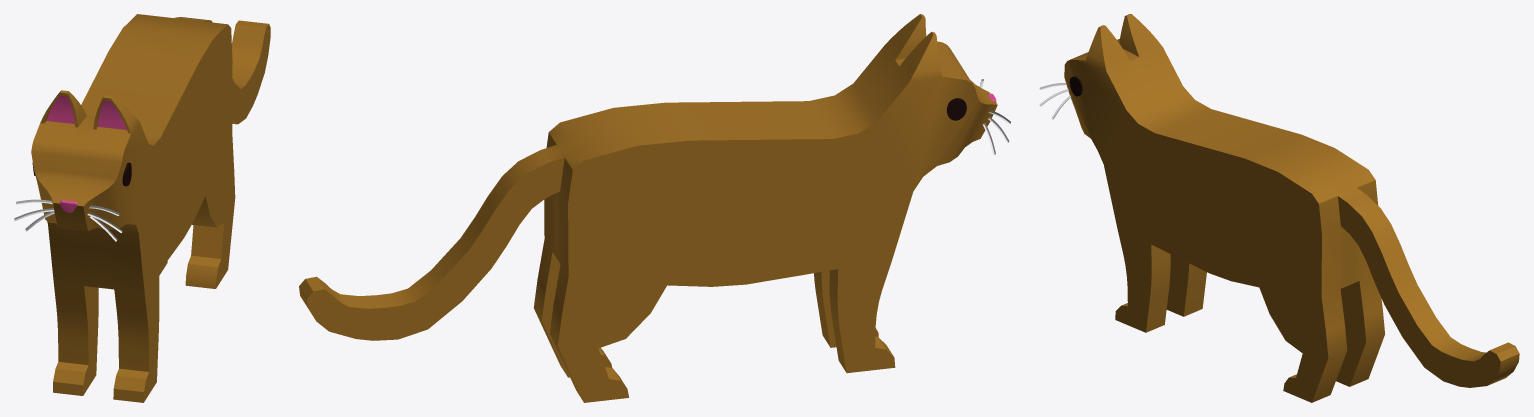
The model's file is Cat.gltf.
3 views of the same model, side by side, from view 1: azimuth 30°, elevation 25°; view 2: azimuth 150°, elevation 25°; view 3: azimuth 270°, elevation 25° (orthographic). The views are drawn at different scales.
Visible parts, largest first — view 1: Plane.128, Cube.005; view 2: Plane.128; view 3: Plane.128.
Boxes of the visible parts, left/top/right/bottom form: Plane.128: left=31, top=14, right=270, bottom=402; Cube.005: left=14, top=199, right=122, bottom=241; Plane.128: left=299, top=14, right=997, bottom=402; Plane.128: left=1064, top=14, right=1519, bottom=402.
Bounding box in the file's own units: 2.14 × 1.35 × 2.14.
